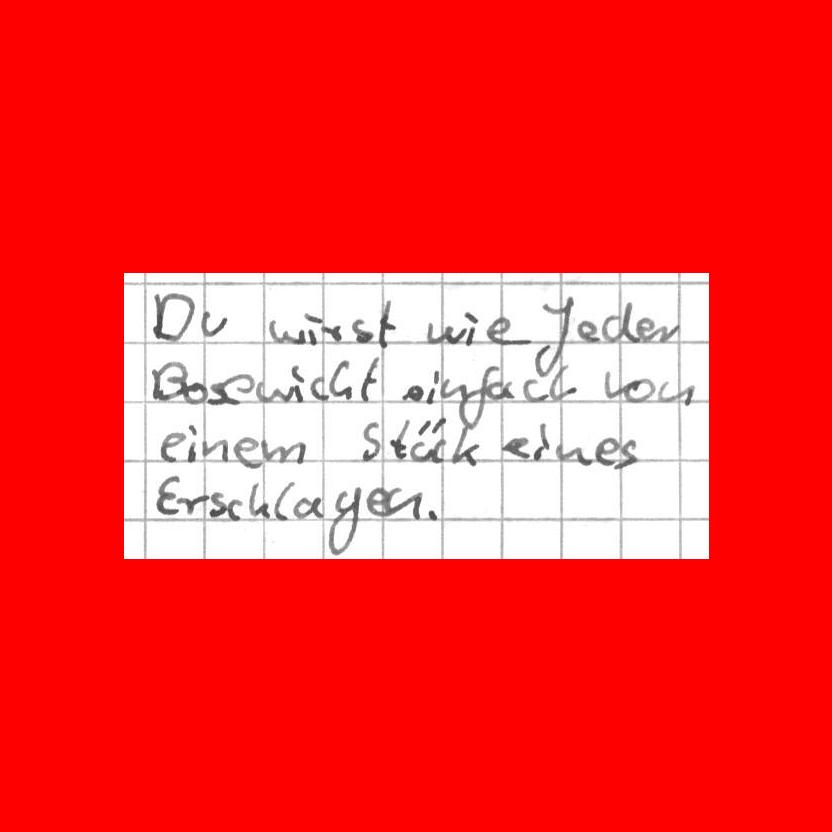Char: (532, 293, 575, 377), (325, 485, 364, 557), (150, 288, 195, 345), (458, 362, 492, 430), (408, 416, 448, 464), (148, 359, 188, 404), (601, 298, 638, 346), (484, 314, 534, 347), (258, 434, 307, 467), (385, 483, 425, 520), (546, 364, 580, 405), (450, 425, 481, 468), (231, 433, 265, 471), (357, 354, 383, 403), (220, 370, 255, 406), (327, 356, 354, 402), (153, 471, 180, 517), (423, 318, 467, 346), (267, 315, 305, 347), (656, 378, 697, 407), (377, 298, 399, 351), (158, 428, 190, 464), (360, 419, 385, 464), (387, 417, 411, 461), (496, 432, 532, 460), (273, 479, 296, 522), (530, 419, 552, 463), (256, 377, 293, 403), (555, 440, 592, 466), (200, 305, 230, 337), (624, 374, 657, 403), (347, 315, 377, 346), (437, 373, 469, 402), (248, 480, 270, 520), (592, 434, 620, 465), (303, 310, 324, 349), (615, 438, 641, 469), (175, 492, 210, 515), (364, 484, 387, 519), (602, 368, 627, 400), (575, 315, 600, 346), (292, 495, 324, 519), (462, 307, 481, 347), (484, 376, 513, 402), (200, 437, 229, 463), (289, 362, 307, 403), (634, 310, 657, 342), (521, 376, 548, 403), (184, 422, 201, 462), (181, 380, 208, 405), (425, 367, 441, 406), (657, 320, 680, 346), (320, 319, 343, 344), (308, 374, 329, 401), (400, 382, 425, 404), (223, 494, 243, 521), (208, 490, 227, 518), (424, 503, 440, 524)
